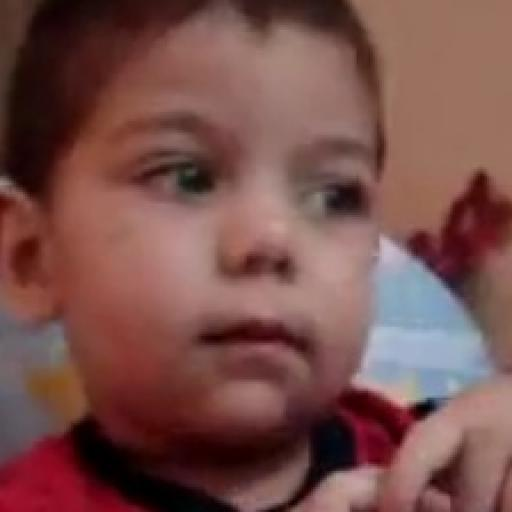Autism: (48, 25, 449, 476)
